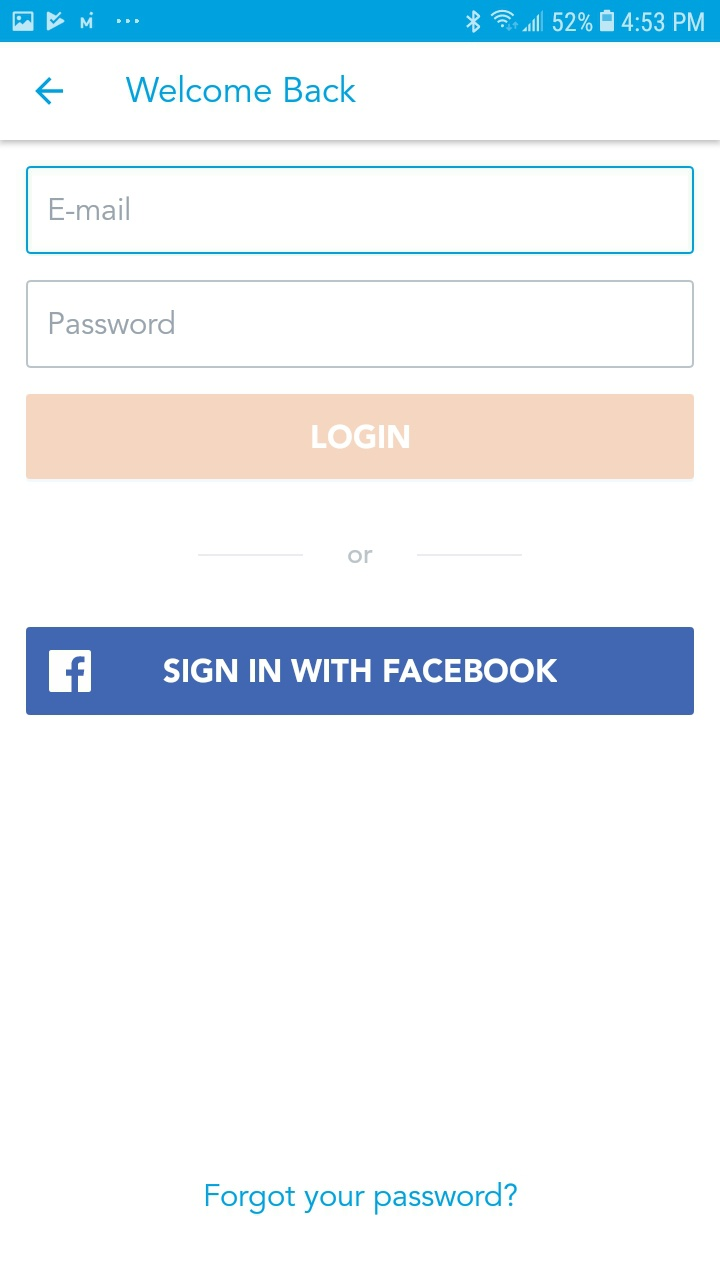EditText: (26, 280, 694, 369), (27, 166, 694, 255)
Icon: (36, 77, 64, 106)
Text: (206, 1181, 518, 1215), (126, 75, 357, 104), (50, 310, 175, 335), (50, 196, 130, 221), (348, 550, 374, 564)
TextButton: (27, 627, 694, 716), (26, 394, 694, 480)
UpperTaskBar: (1, 1, 720, 43)
